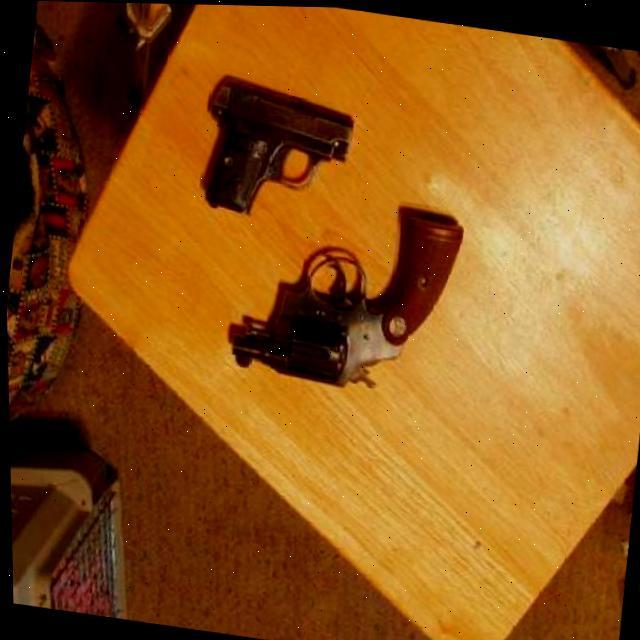gun: (222, 188, 469, 402), (194, 70, 360, 228)
